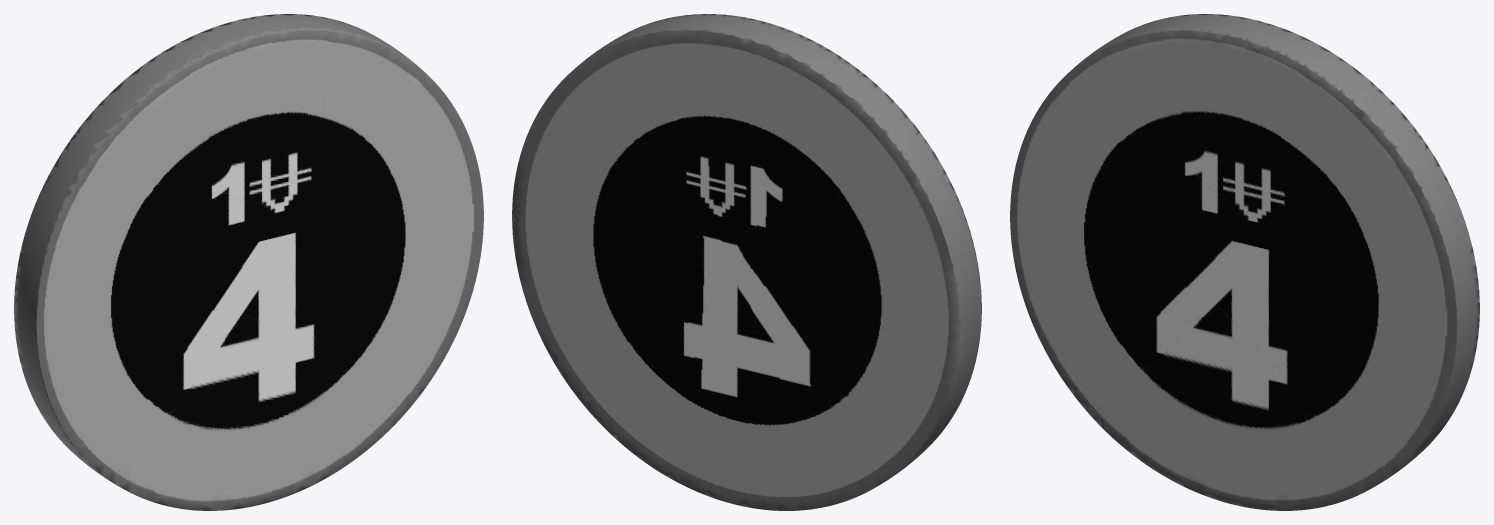
The picture shows the model from 3 angles, left to right: view 1: azimuth 30°, elevation 25°; view 2: azimuth 150°, elevation 25°; view 3: azimuth 330°, elevation 25°; orthographic projection.
Parts seen in each view (by area): view 1: node_id27; view 2: node_id27; view 3: node_id27.
Boxes of the visible parts, bbox=[...] form: node_id27: bbox=[14, 14, 483, 510]; node_id27: bbox=[512, 14, 981, 510]; node_id27: bbox=[1010, 14, 1479, 510].
Size of the model in its own units: 0.512 by 0.512 by 0.0447.
Materials: 1 (1 with a texture image).
